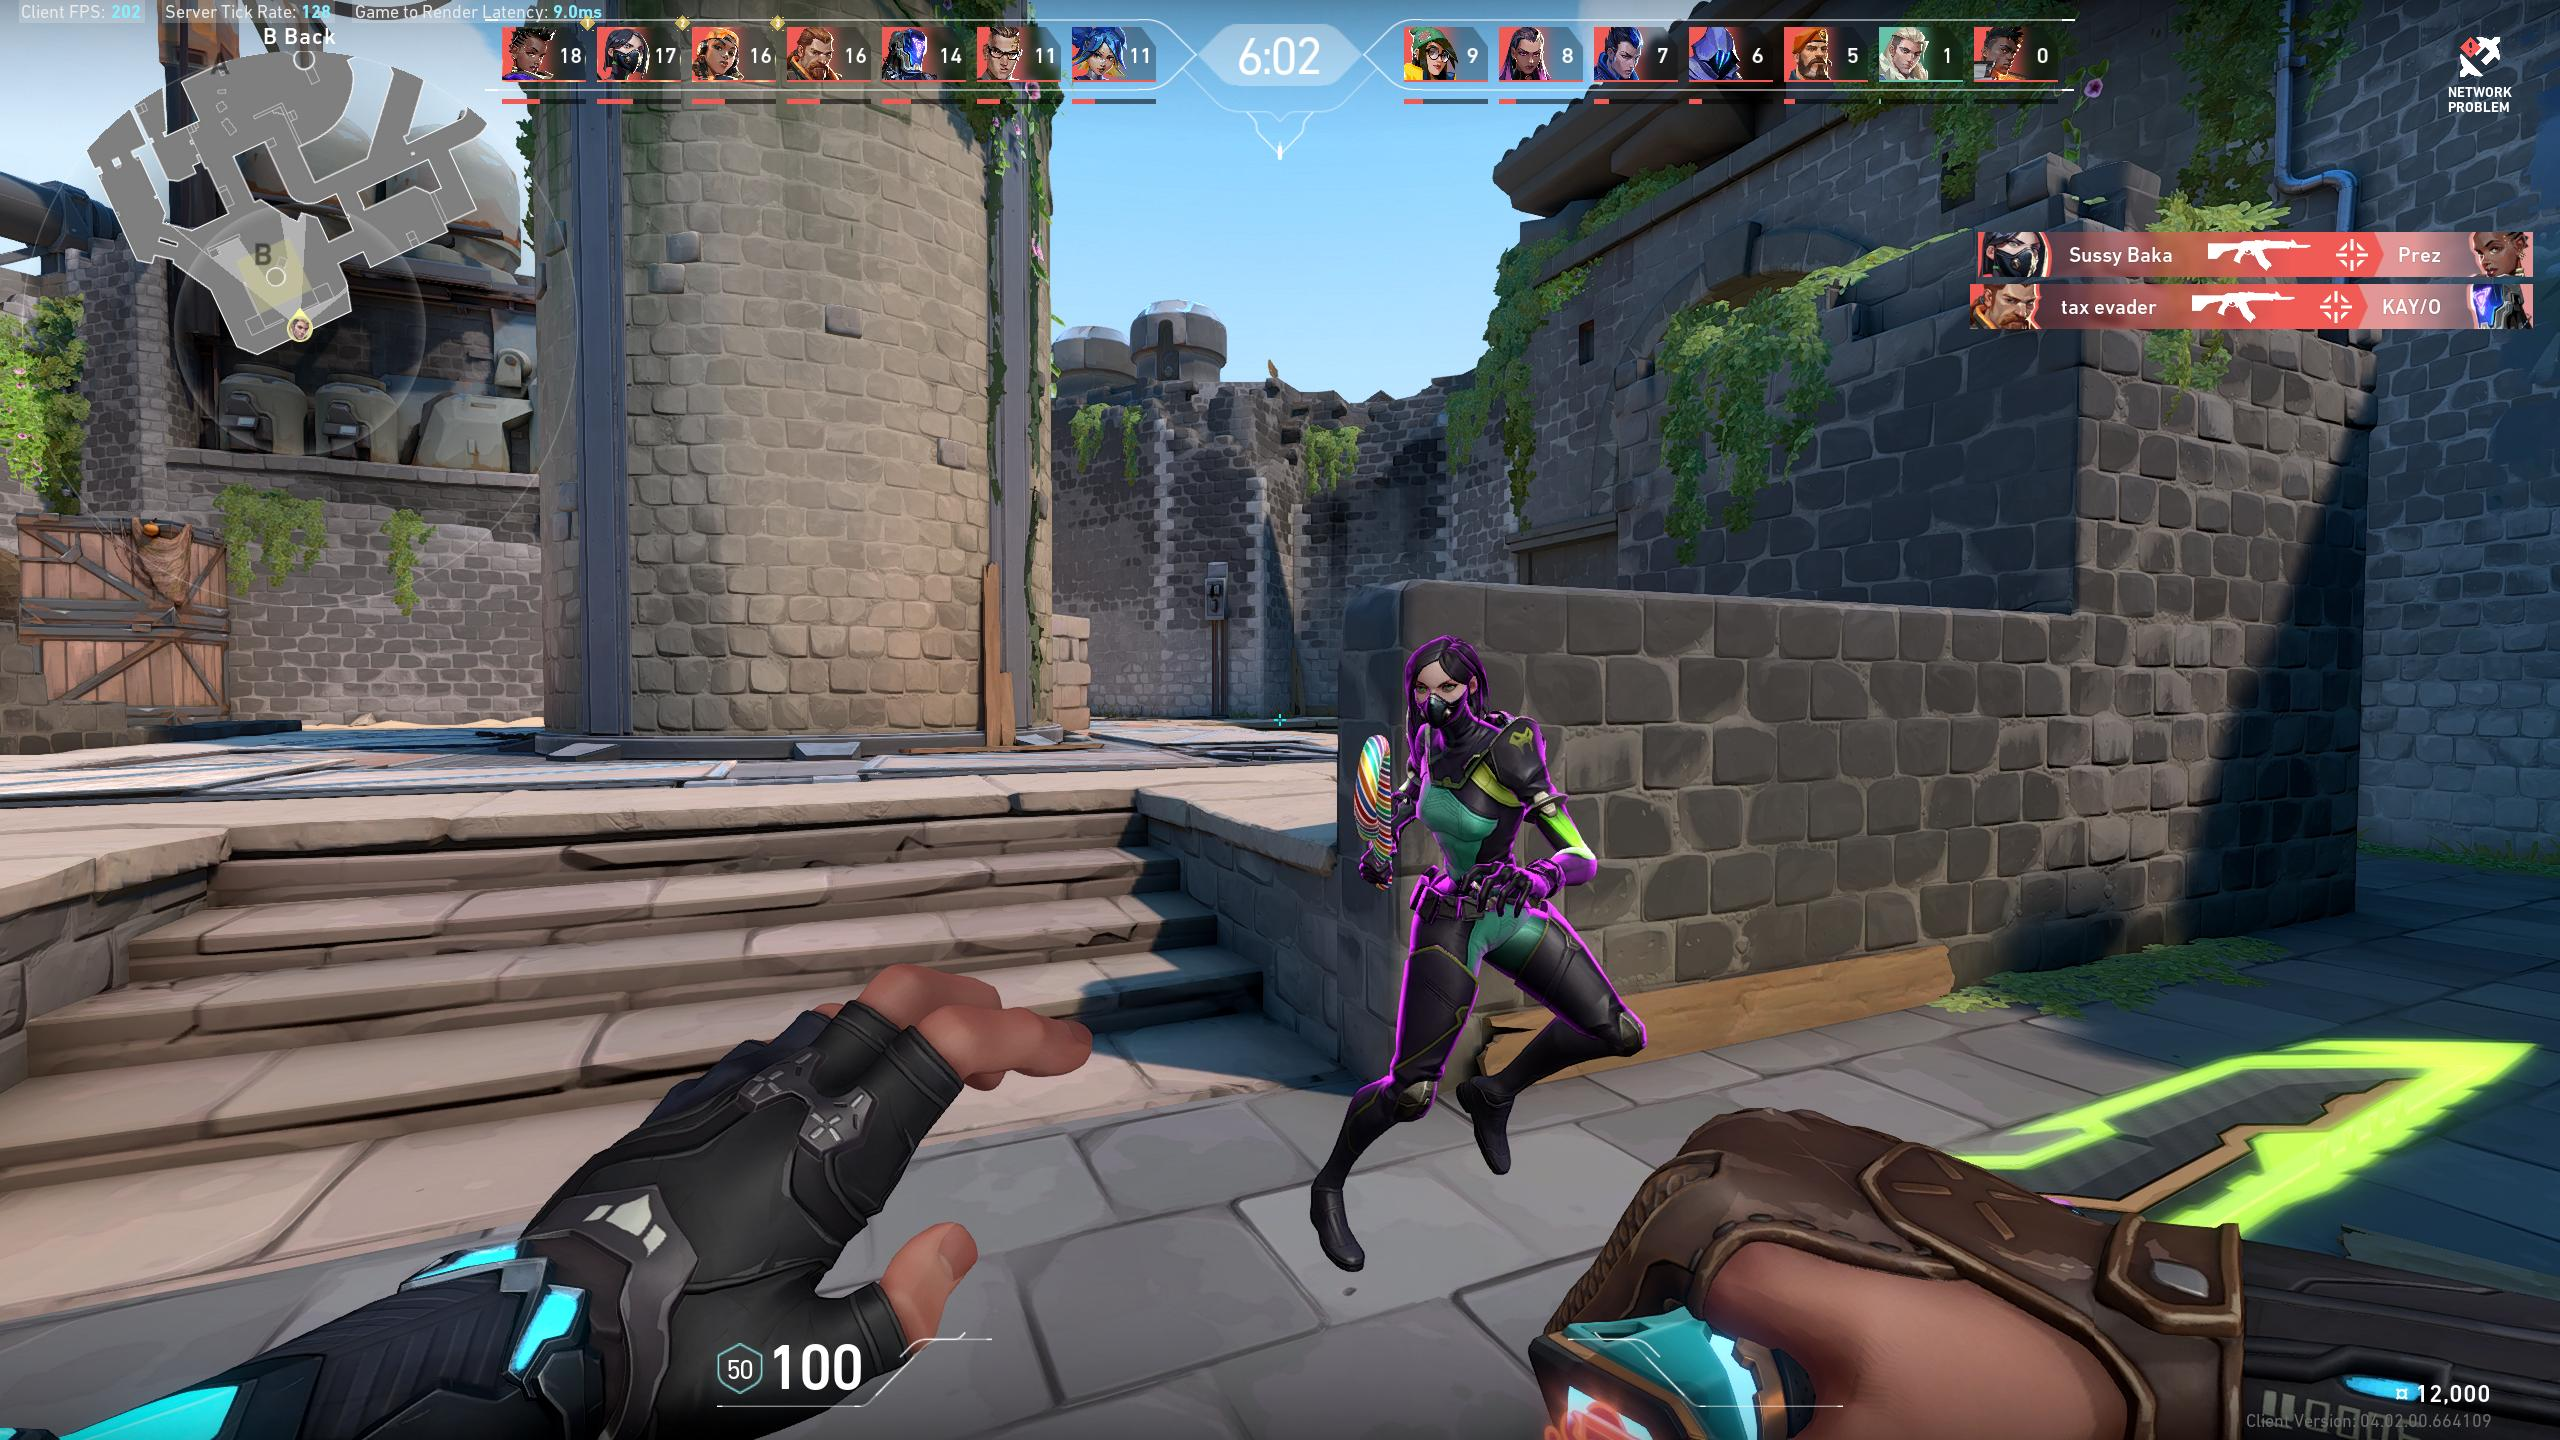enemyBody: (1440, 751, 1512, 886)
enemyHead: (1412, 661, 1473, 730)
